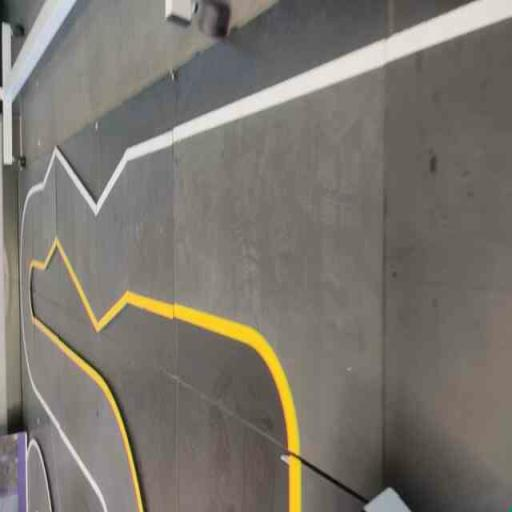left: (171, 27, 391, 508)
